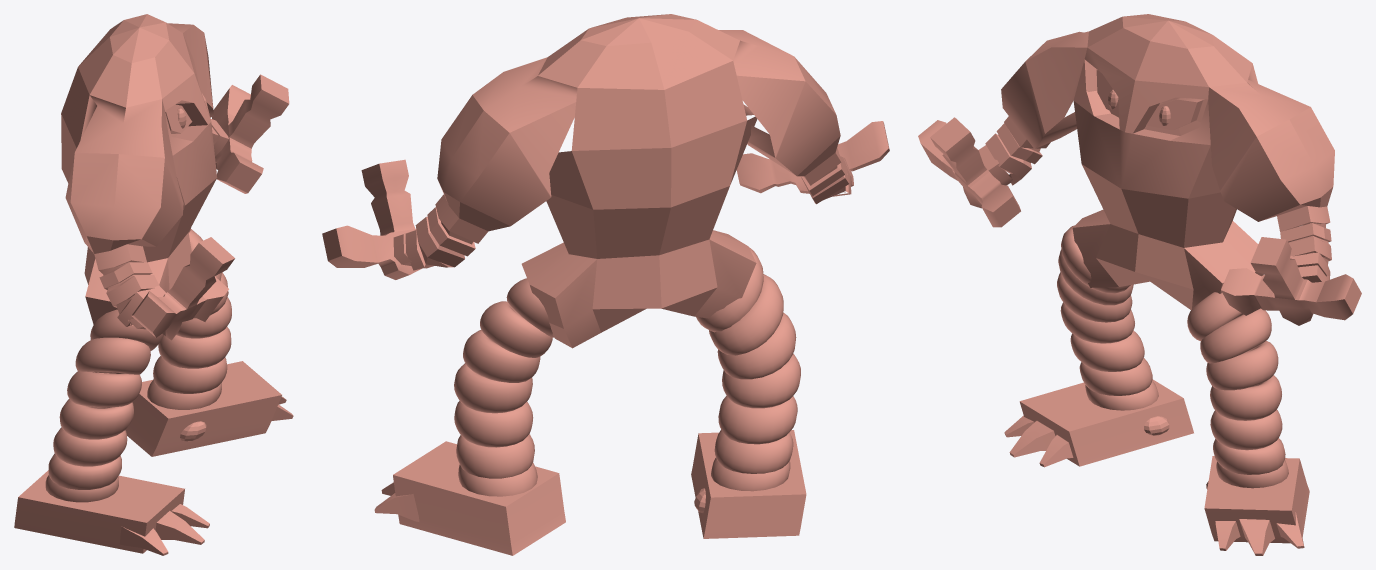
File: hitmonlee.glb
The picture shows the model from 3 angles, left to right: view 1: azimuth 30°, elevation 25°; view 2: azimuth 150°, elevation 25°; view 3: azimuth 270°, elevation 25°; orthographic projection. The views are drawn at different scales.
Parts seen in each view (by area): view 1: Node; view 2: Node; view 3: Node.
Boxes of the visible parts, bbox=[...] form: Node: bbox=[14, 14, 293, 555]; Node: bbox=[322, 14, 889, 555]; Node: bbox=[918, 14, 1361, 555].
Bounding box in the file's own units: 10.3 × 13.14 × 11.77.
